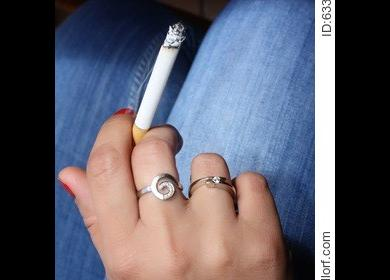Cigarette: (130, 24, 184, 144)
